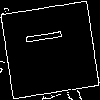I: (25, 25, 72, 47)
